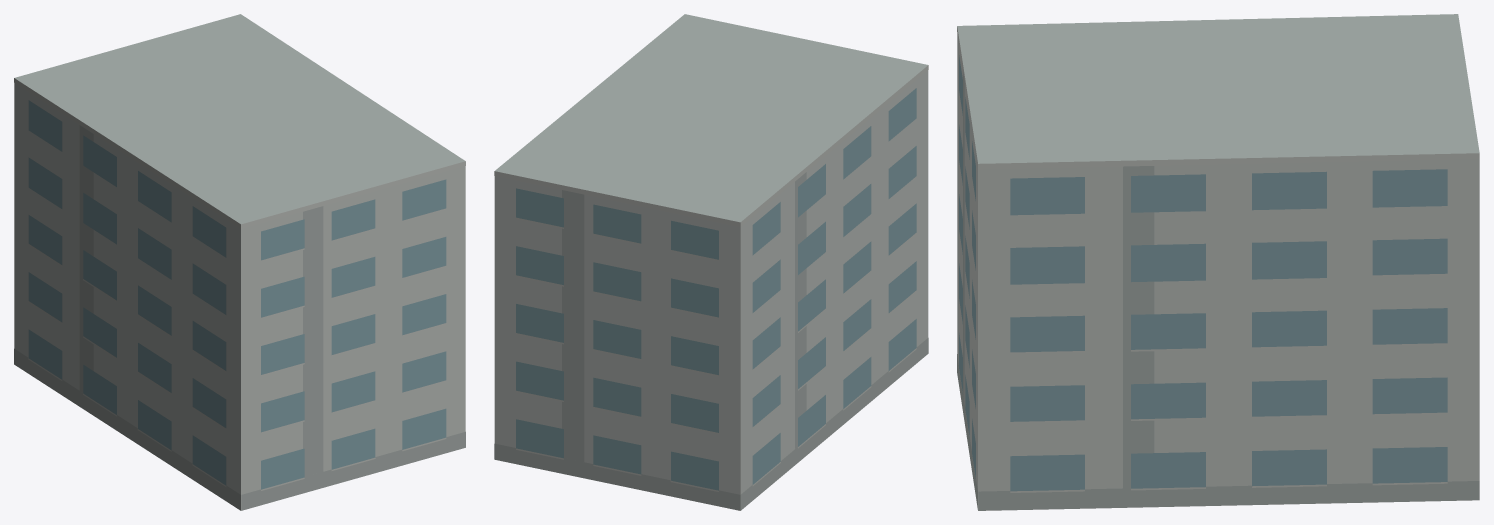
Rendered from survey-upis-32900972.glb.
3 views of the same model, side by side, from view 1: azimuth 30°, elevation 25°; view 2: azimuth 150°, elevation 25°; view 3: azimuth 270°, elevation 25° (orthographic). The views are drawn at different scales.
Parts seen in each view (by area): view 1: survey-upis-32900972.tmp; view 2: survey-upis-32900972.tmp; view 3: survey-upis-32900972.tmp.
Boxes of the visible parts, x1,y1,x2,y2 form: survey-upis-32900972.tmp: (14,14,465,510); survey-upis-32900972.tmp: (494,14,928,510); survey-upis-32900972.tmp: (957,14,1479,510).
Size of the model in its own units: 13.62 by 14.7 by 20.07.
